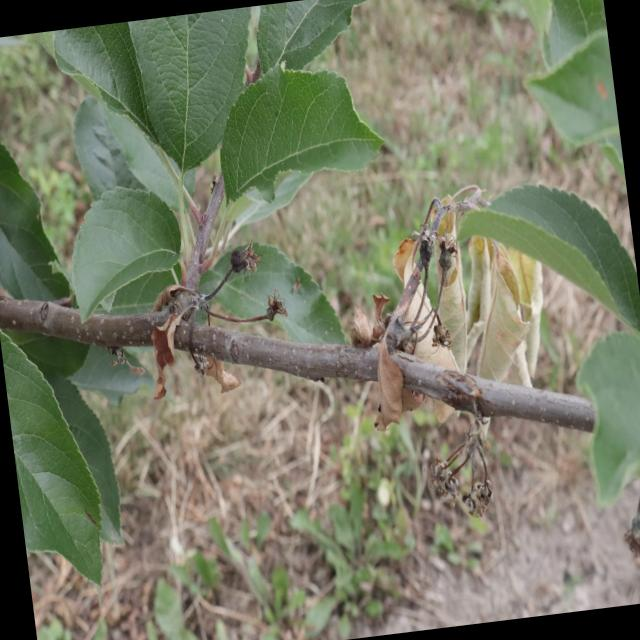-FireBlight-: (344, 220, 481, 434)
